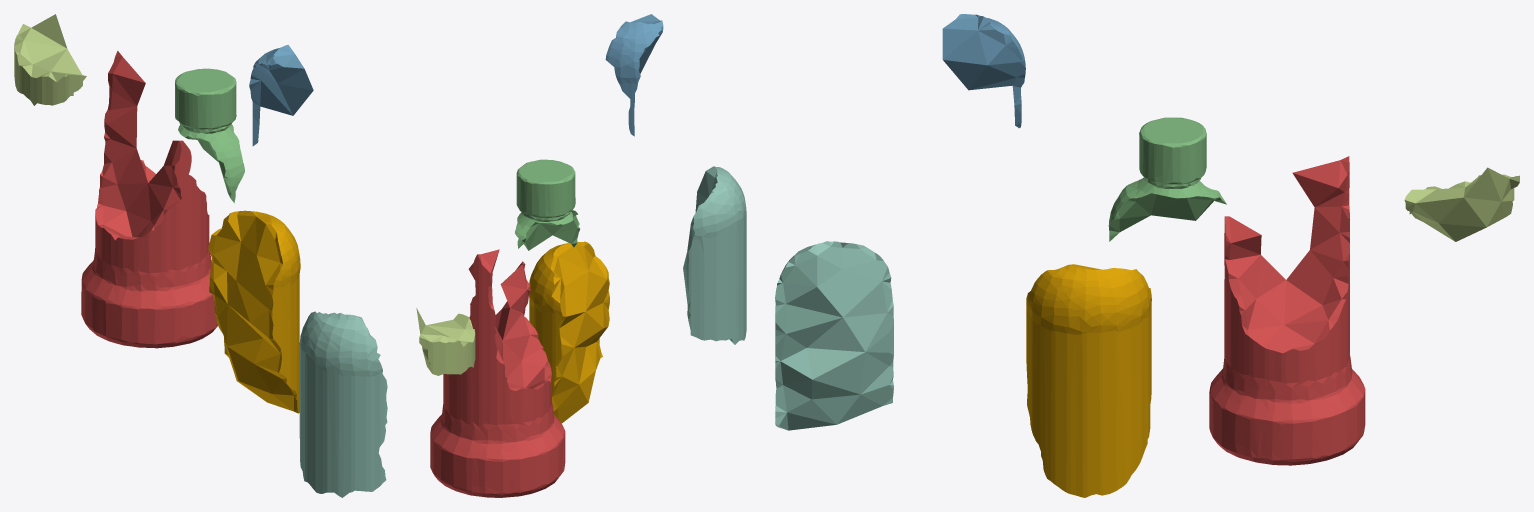
The model's file is mode_7_6pcs_transformed.glb.
3 views of the same model, side by side, from view 1: azimuth 30°, elevation 25°; view 2: azimuth 150°, elevation 25°; view 3: azimuth 270°, elevation 25° (orthographic). The views are drawn at different scales.
Visible parts, largest first — view 1: piece_1.obj, piece_0.obj, piece_4.obj, piece_3.obj, piece_5.obj, piece_2.obj; view 2: piece_1.obj, piece_0.obj, piece_4.obj, piece_3.obj, piece_2.obj, piece_5.obj; view 3: piece_1.obj, piece_0.obj, piece_4.obj, piece_3.obj, piece_2.obj, piece_5.obj.
Part boxes in pixels (x1,y1,x2,y2): piece_1.obj: (81, 51, 217, 348); piece_0.obj: (208, 210, 300, 413); piece_4.obj: (299, 311, 387, 497); piece_3.obj: (175, 68, 244, 202); piece_5.obj: (14, 14, 86, 105); piece_2.obj: (249, 44, 313, 146); piece_1.obj: (430, 249, 565, 497); piece_0.obj: (529, 241, 609, 423); piece_4.obj: (683, 166, 746, 344); piece_3.obj: (515, 159, 579, 250); piece_2.obj: (605, 14, 663, 136); piece_5.obj: (416, 308, 475, 375); piece_1.obj: (1209, 156, 1365, 465); piece_0.obj: (1026, 264, 1151, 497); piece_4.obj: (775, 241, 893, 430); piece_3.obj: (1108, 117, 1226, 241); piece_2.obj: (942, 14, 1025, 128); piece_5.obj: (1404, 167, 1519, 241).
Size of the model in its own units: 0.3732 by 1.18 by 1.78.
